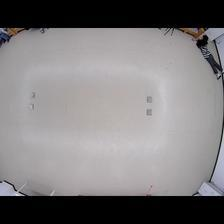fall: (195, 34, 223, 78)
